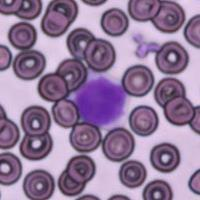L: (73, 70, 130, 128)
